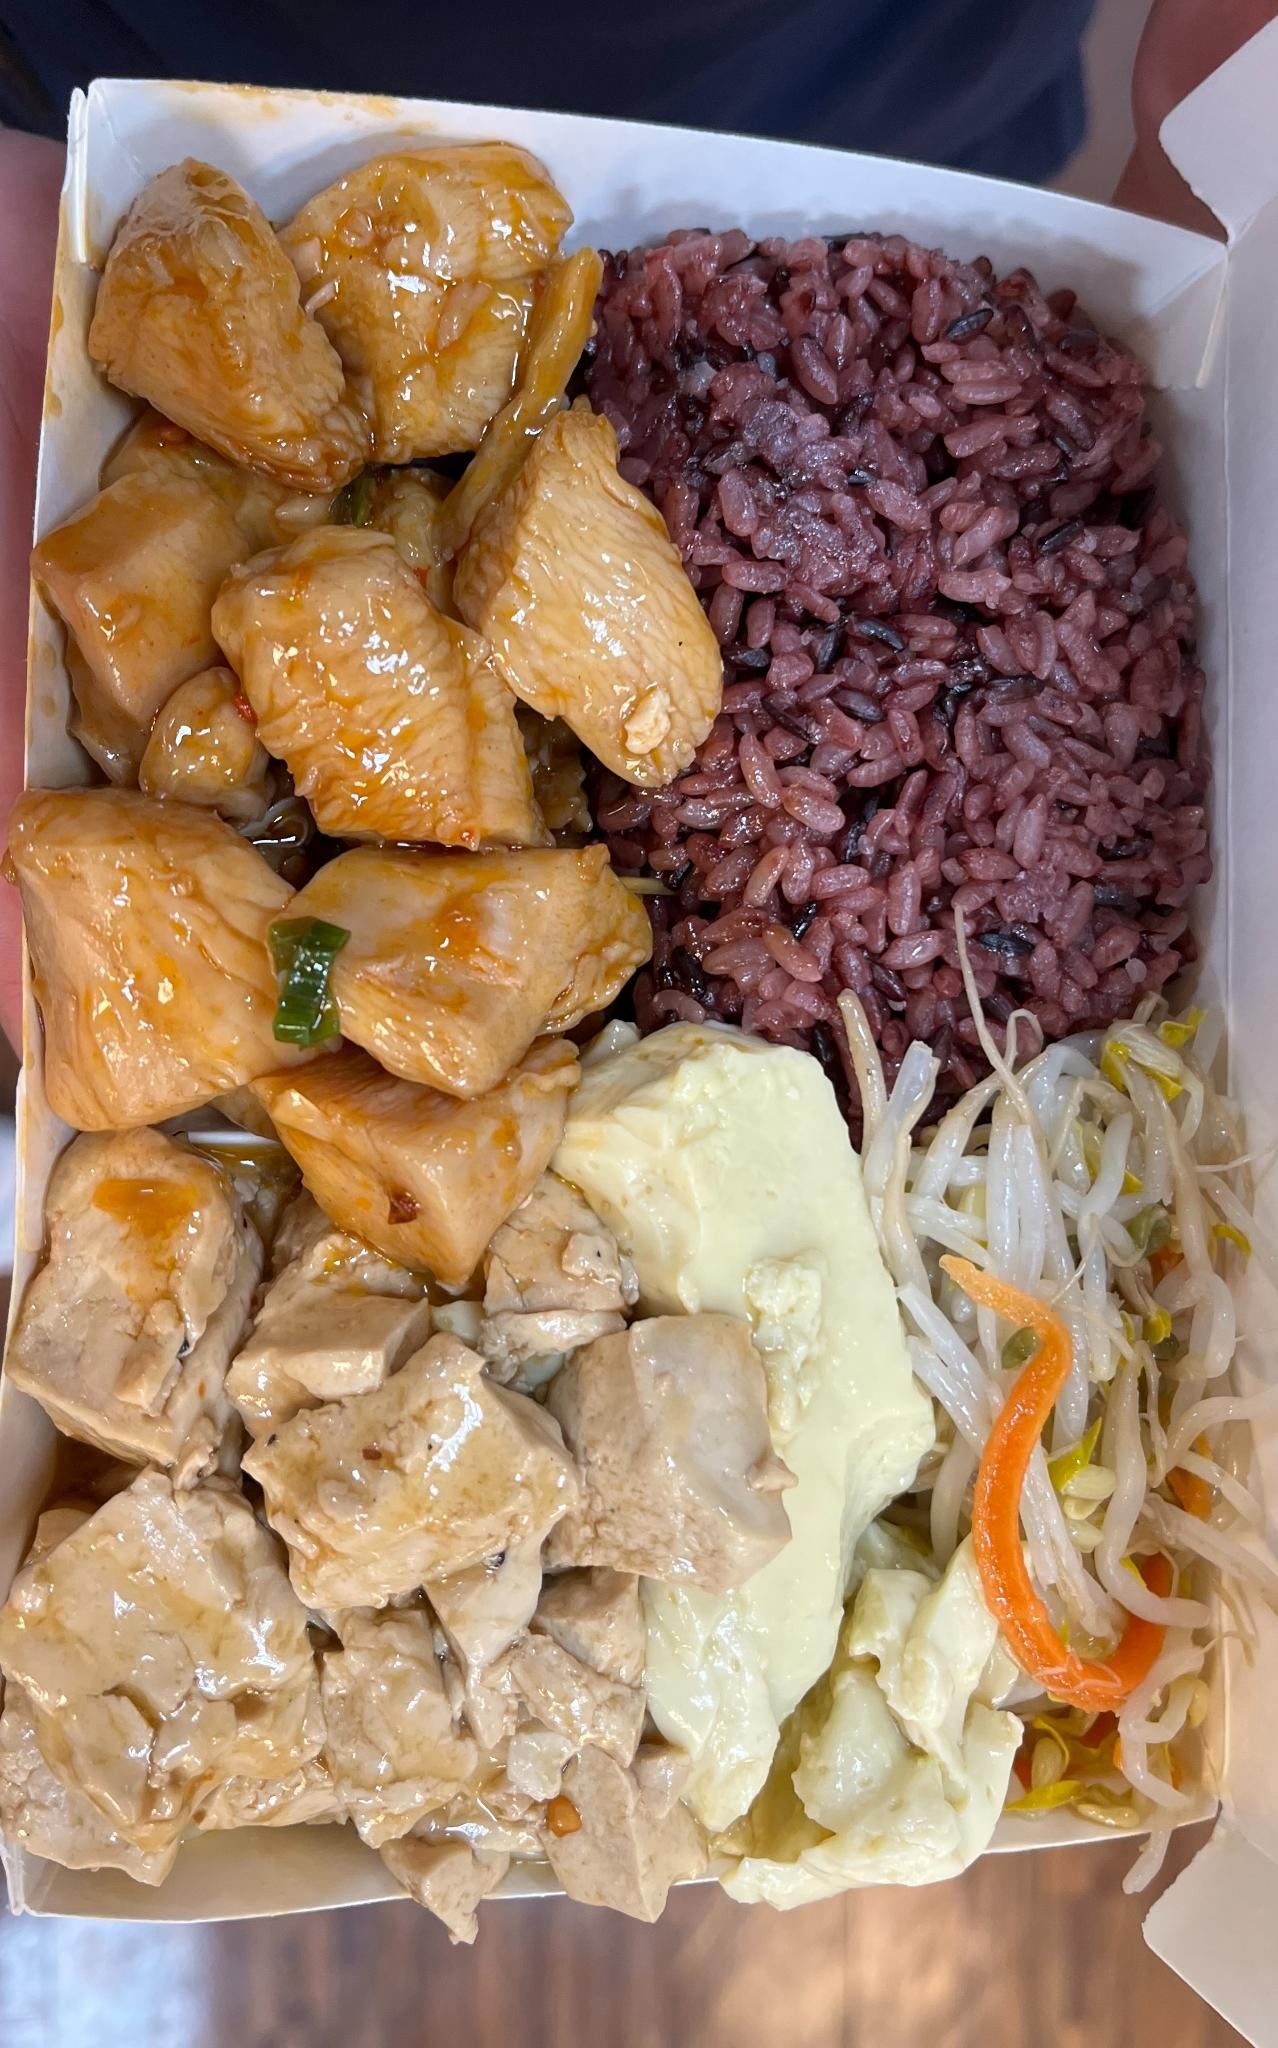big grilled chicken leg: (35, 35, 1275, 1968)
braised fish: (593, 188, 1206, 1035)
braised fish fillet: (53, 1179, 755, 1877), (576, 1037, 978, 1862), (855, 1038, 1260, 1823)
braised pork: (72, 144, 655, 1222)
